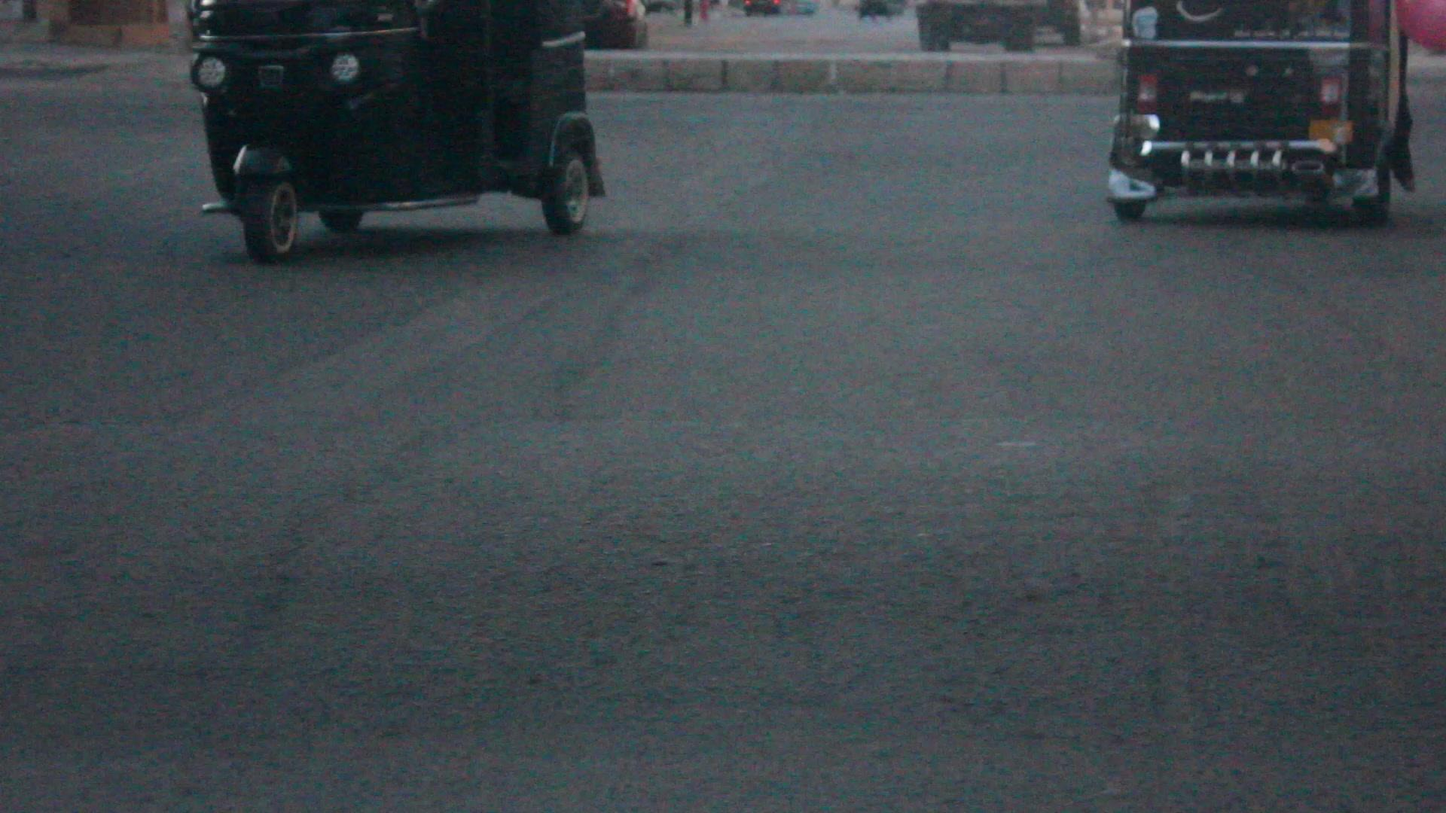Bump: (11, 420, 1446, 762)
